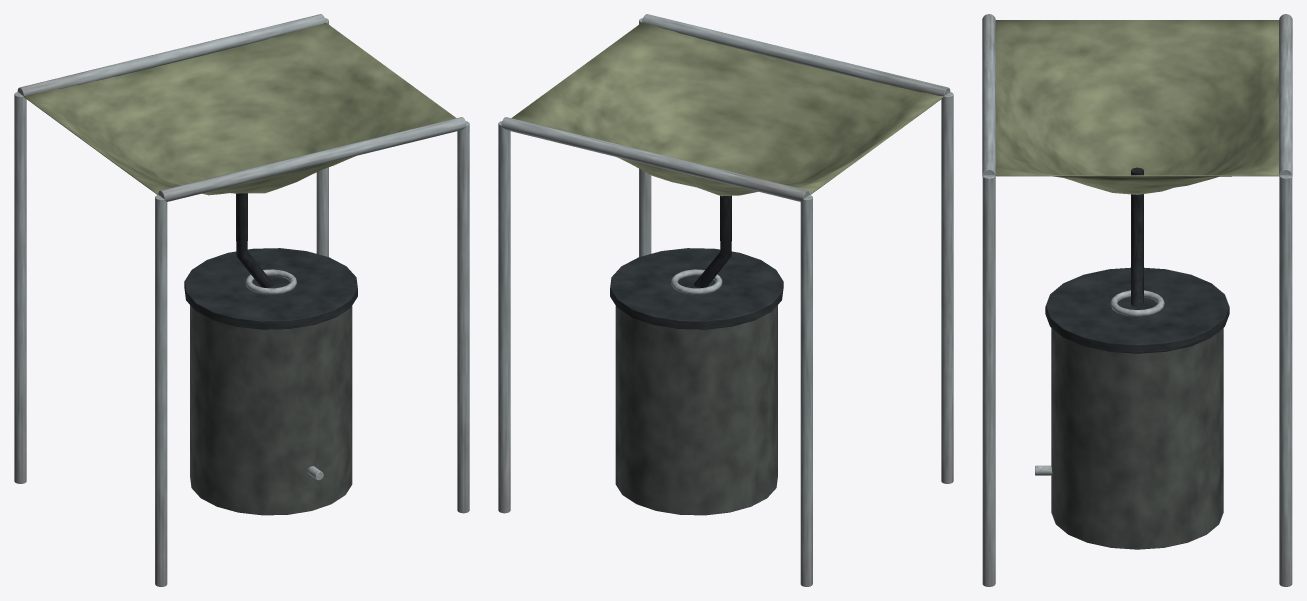
File: GR_RainCollector_02.glb
The picture shows the model from 3 angles, left to right: view 1: azimuth 30°, elevation 25°; view 2: azimuth 150°, elevation 25°; view 3: azimuth 270°, elevation 25°; orthographic projection. The views are drawn at different scales.
Parts seen in each view (by area): view 1: Static; view 2: Static; view 3: Static.
Part boxes in pixels (left/top/right/bottom): Static: left=14, top=14, right=469, bottom=586; Static: left=498, top=14, right=953, bottom=586; Static: left=982, top=14, right=1292, bottom=586.
Size of the model in its own units: 1.28 by 1.54 by 1.05.
1 material, 1 textured.
